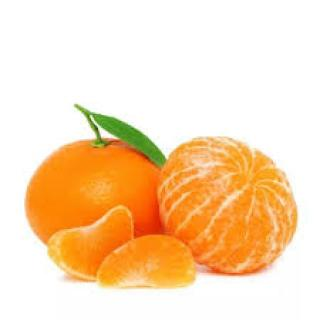orange: (13, 103, 185, 270), (157, 120, 295, 292), (42, 208, 146, 289), (101, 235, 200, 301)
